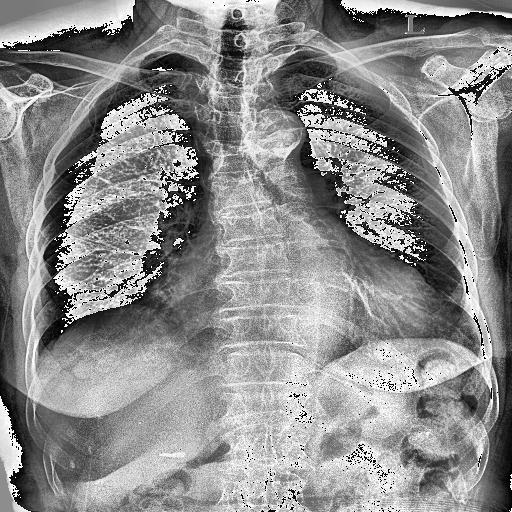0- Aortic enlargement: (255, 104, 311, 166)
2- Calcification: (248, 98, 326, 164), (258, 109, 310, 161)
3- Cardiomegaly: (135, 216, 456, 354), (130, 250, 460, 350)
